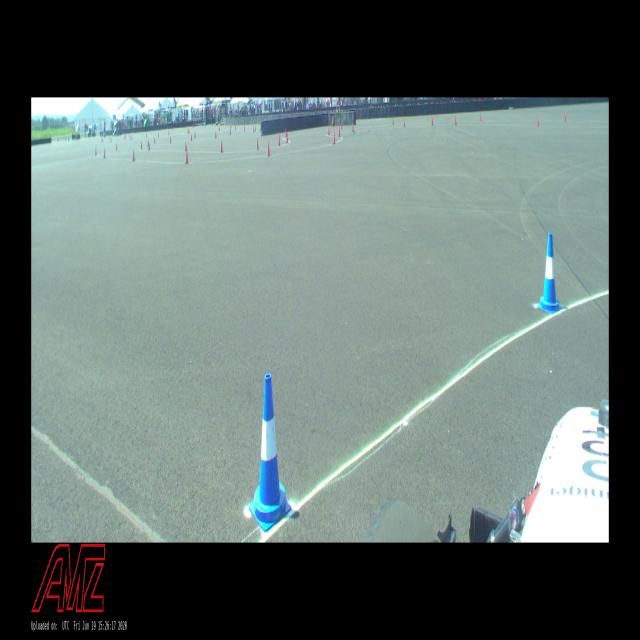blue_cone: (249, 374, 291, 532), (537, 233, 563, 314)
unknown_cone: (332, 132, 336, 144), (267, 142, 270, 156), (479, 111, 482, 122), (220, 142, 223, 152), (186, 150, 188, 164), (454, 116, 457, 125), (214, 131, 217, 139), (431, 114, 433, 125), (352, 121, 354, 132), (286, 132, 288, 143), (278, 135, 280, 146), (564, 111, 566, 121), (403, 117, 405, 127), (328, 125, 330, 135), (338, 127, 340, 137), (537, 116, 539, 125), (332, 115, 334, 124), (285, 127, 287, 136), (154, 136, 156, 145), (140, 141, 142, 150), (148, 141, 150, 150), (392, 116, 394, 124), (340, 121, 342, 129), (190, 133, 192, 141), (230, 122, 232, 129), (257, 138, 258, 150), (194, 132, 196, 138), (168, 130, 170, 135), (170, 136, 171, 144), (255, 124, 256, 131), (253, 125, 254, 132), (244, 124, 245, 131), (230, 128, 231, 135), (236, 124, 237, 130), (219, 126, 220, 131), (188, 129, 189, 134), (146, 133, 147, 138), (158, 132, 159, 137), (188, 129, 188, 133), (148, 138, 148, 147)
